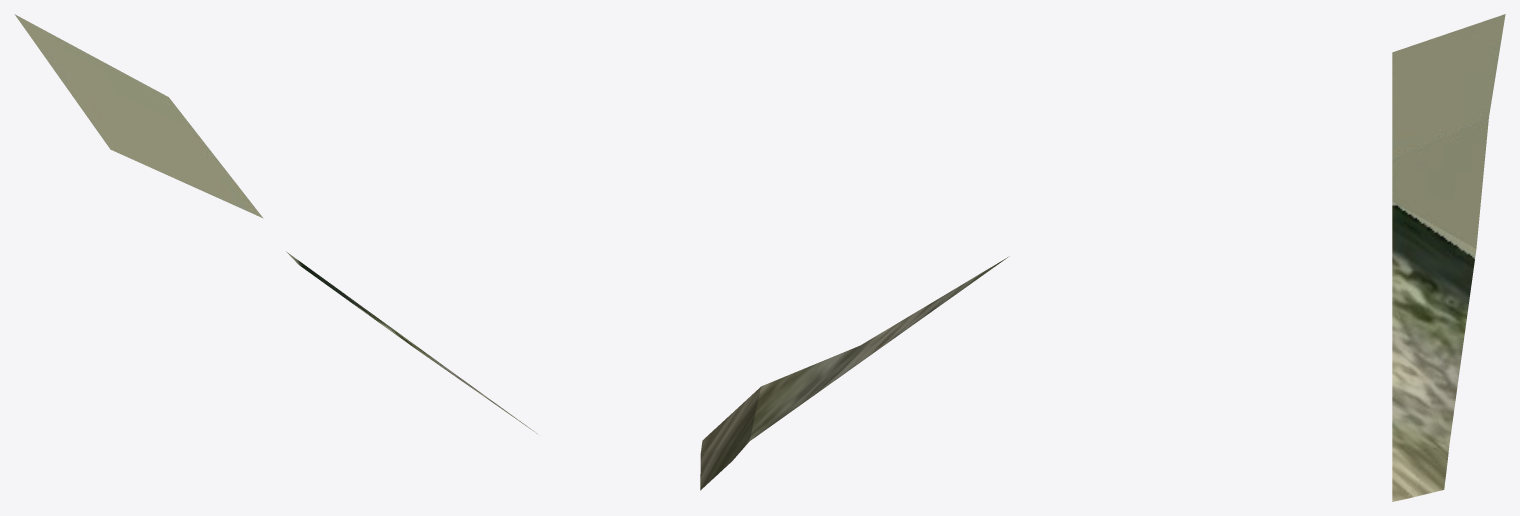
The picture shows the model from 3 angles, left to right: view 1: azimuth 30°, elevation 25°; view 2: azimuth 150°, elevation 25°; view 3: azimuth 270°, elevation 25°; orthographic projection. The views are drawn at different scales.
Size of the model in its own units: 4.72 by 4.46 by 1.4.
1 material, 1 textured.
